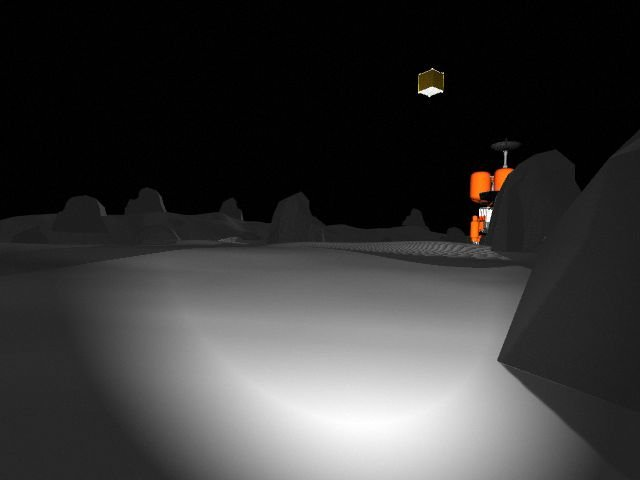cubesat: (413, 63, 451, 104)
